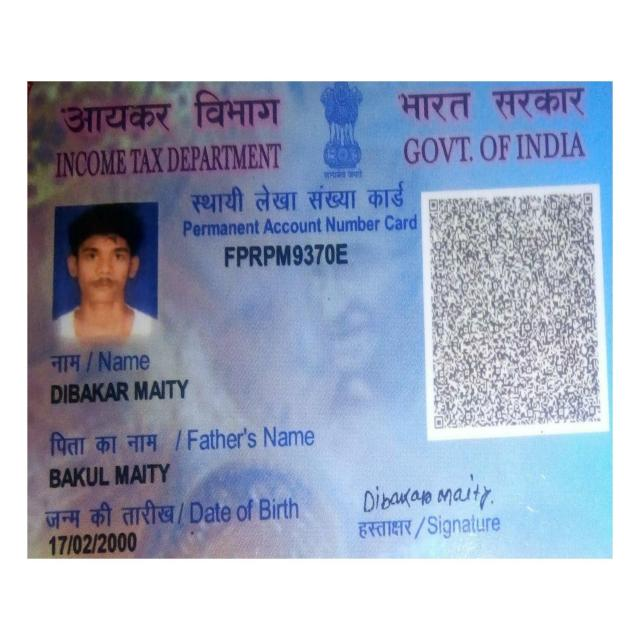pan_card: (30, 80, 612, 553)
